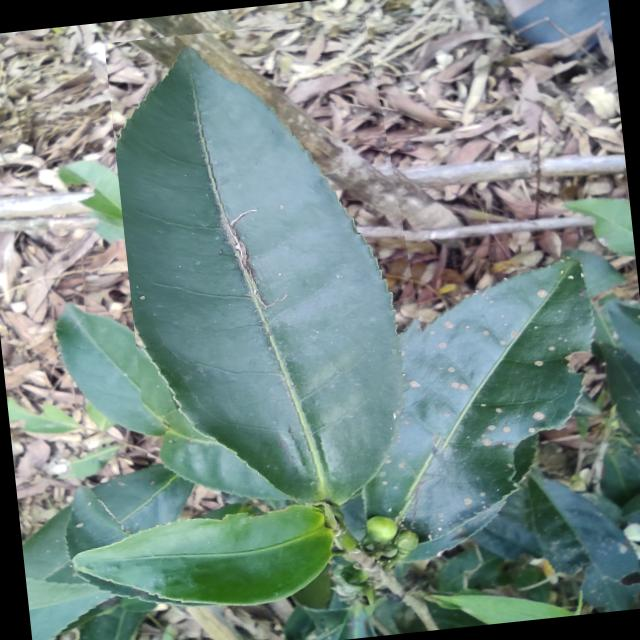Category D(7+ days, Not for Tea): (104, 11, 452, 531)
